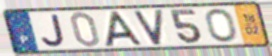0: (68, 11, 102, 49)
5: (167, 8, 203, 45)
A: (104, 10, 145, 48)
J: (40, 13, 67, 48)
O: (204, 7, 239, 44)
V: (131, 8, 165, 47)
